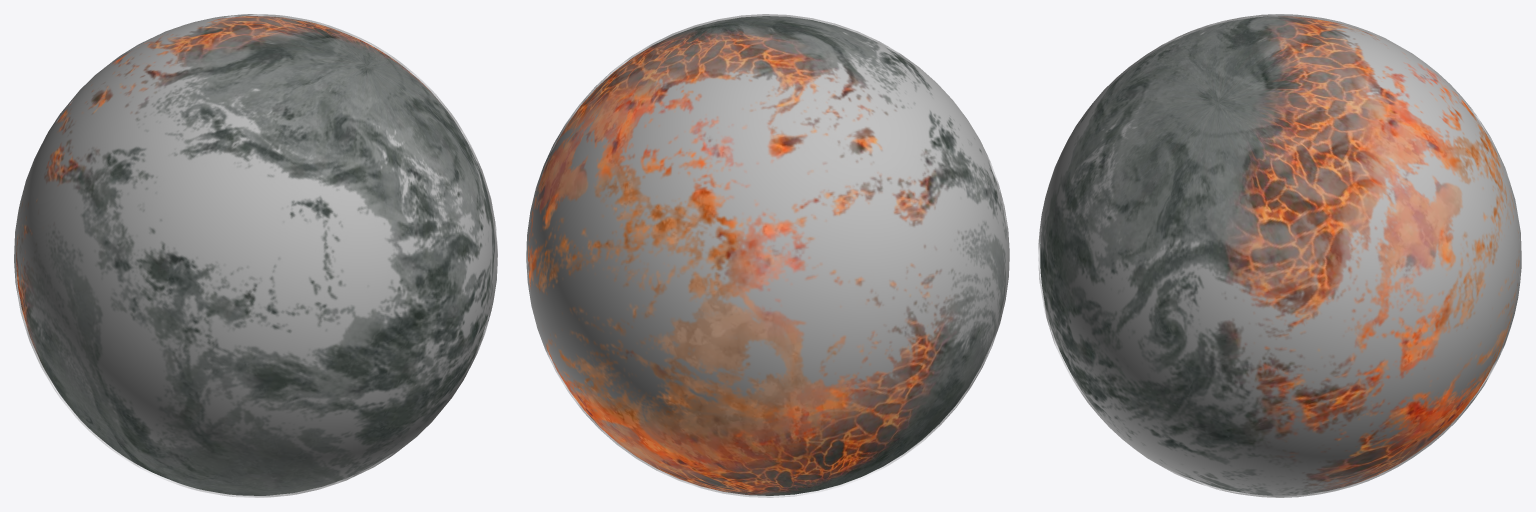
Rendered from lavaPlanet.glb.
3 views of the same model, side by side, from view 1: azimuth 30°, elevation 25°; view 2: azimuth 150°, elevation 25°; view 3: azimuth 270°, elevation 25° (orthographic).
Parts seen in each view (by area): view 1: clouds, planet_planet_0; view 2: clouds, planet_planet_0; view 3: clouds, planet_planet_0.
Part boxes in pixels (x1,y1,x2,y2): clouds: [14, 14, 497, 497]; planet_planet_0: [16, 16, 494, 495]; clouds: [526, 14, 1009, 497]; planet_planet_0: [528, 16, 1006, 495]; clouds: [1038, 14, 1521, 497]; planet_planet_0: [1040, 16, 1519, 495].
Size of the model in its own units: 2.02 by 2.02 by 2.01.
Materials: 2 (2 with a texture image).
